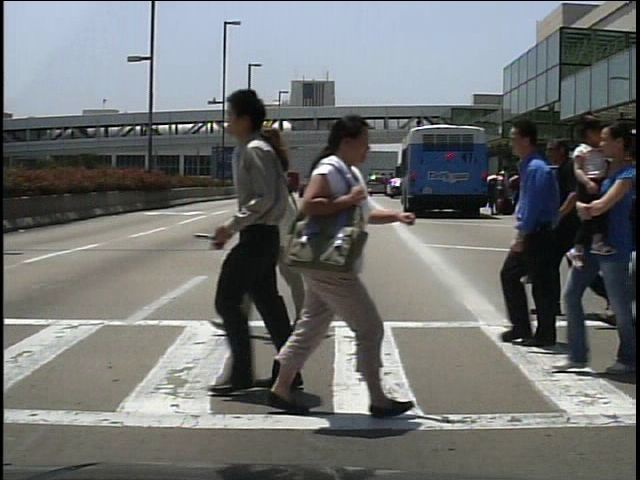person: (186, 83, 351, 411), (257, 113, 391, 422), (217, 118, 346, 345), (483, 115, 585, 348), (530, 130, 602, 322), (582, 168, 602, 218), (487, 162, 504, 214), (513, 166, 522, 216)
